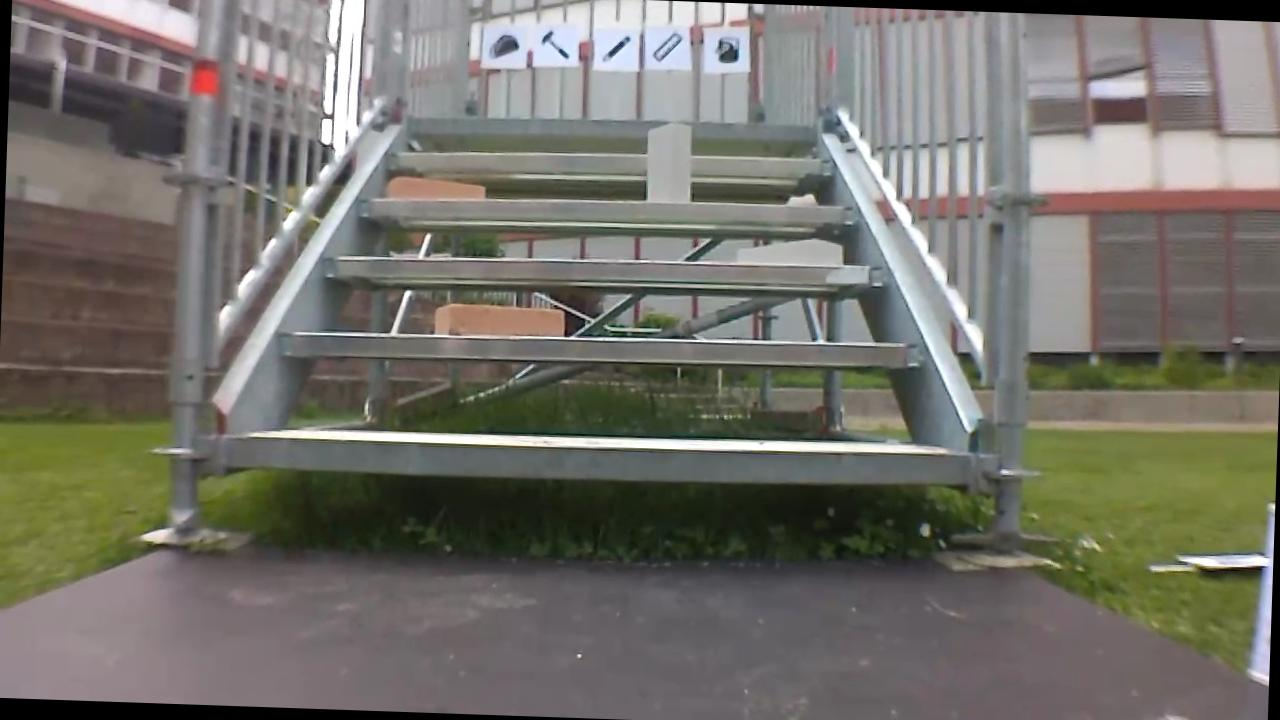brick: (432, 302, 563, 337), (645, 121, 691, 202), (737, 237, 842, 265), (384, 175, 484, 201)
bucket: (708, 31, 746, 65)
edge: (225, 428, 961, 490), (282, 322, 919, 372), (322, 247, 887, 295), (358, 189, 860, 231), (385, 144, 832, 178), (405, 113, 816, 144)
hammer: (535, 25, 572, 62)
pencil: (598, 30, 632, 68)
ruler: (649, 27, 685, 64)
steps: (216, 99, 977, 499)
taco: (484, 30, 522, 60)
